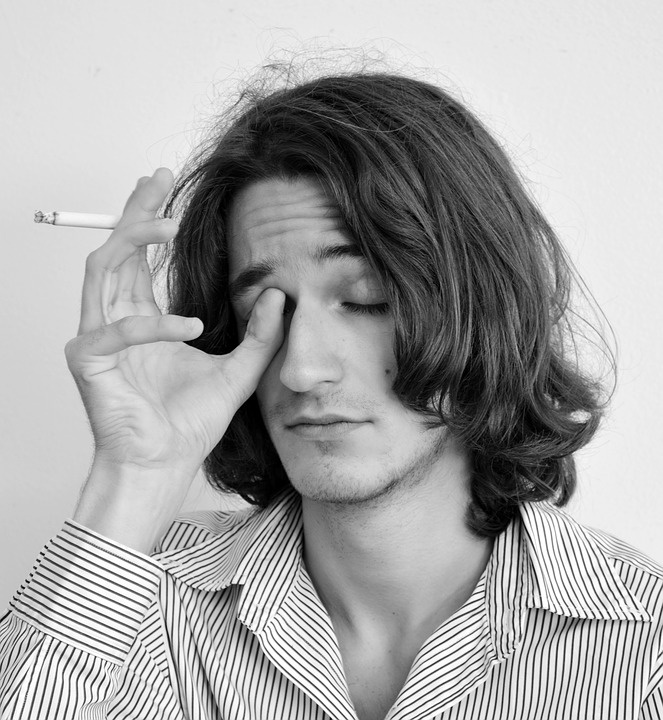sigaretta: (34, 202, 157, 238)
